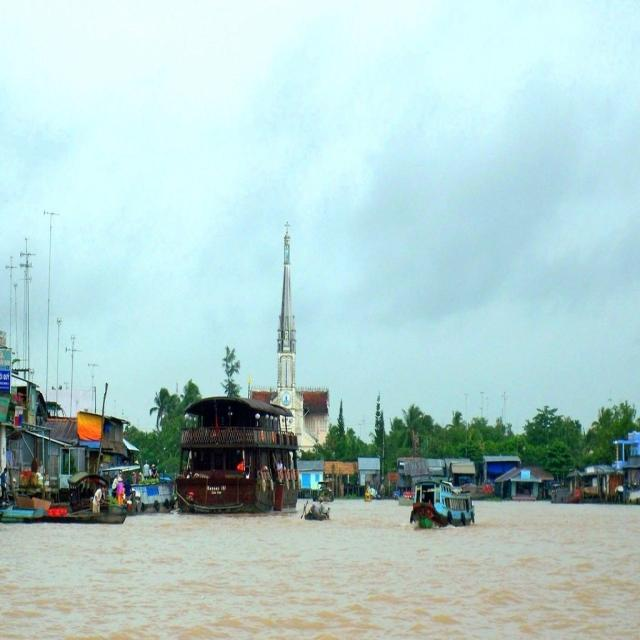boat: (182, 389, 300, 513), (404, 483, 476, 528), (45, 502, 128, 526), (305, 496, 337, 530), (546, 480, 588, 504)
